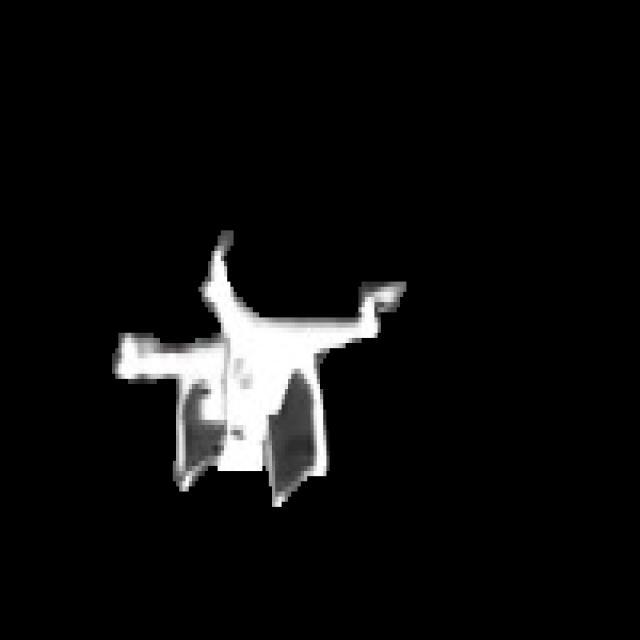drone: (108, 222, 412, 504)
